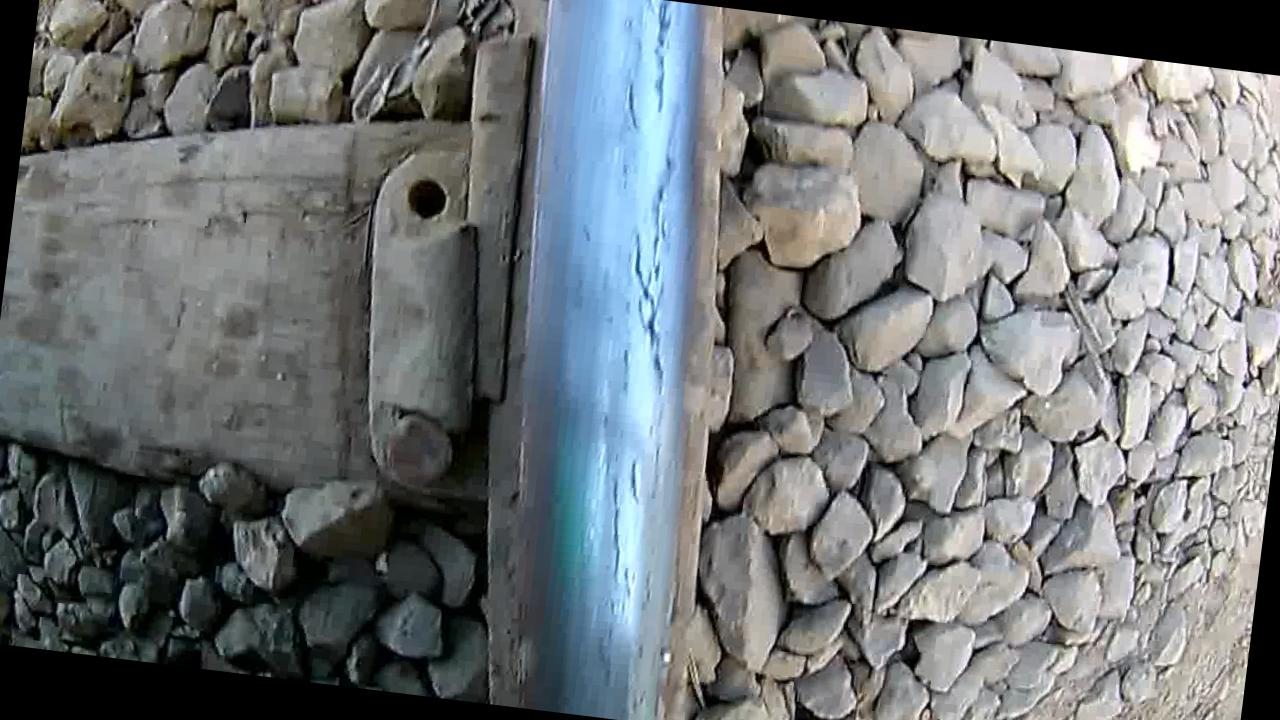normal_track: (544, 0, 719, 634)
